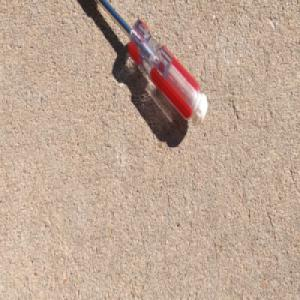Screwdriver: (90, 0, 208, 129)
